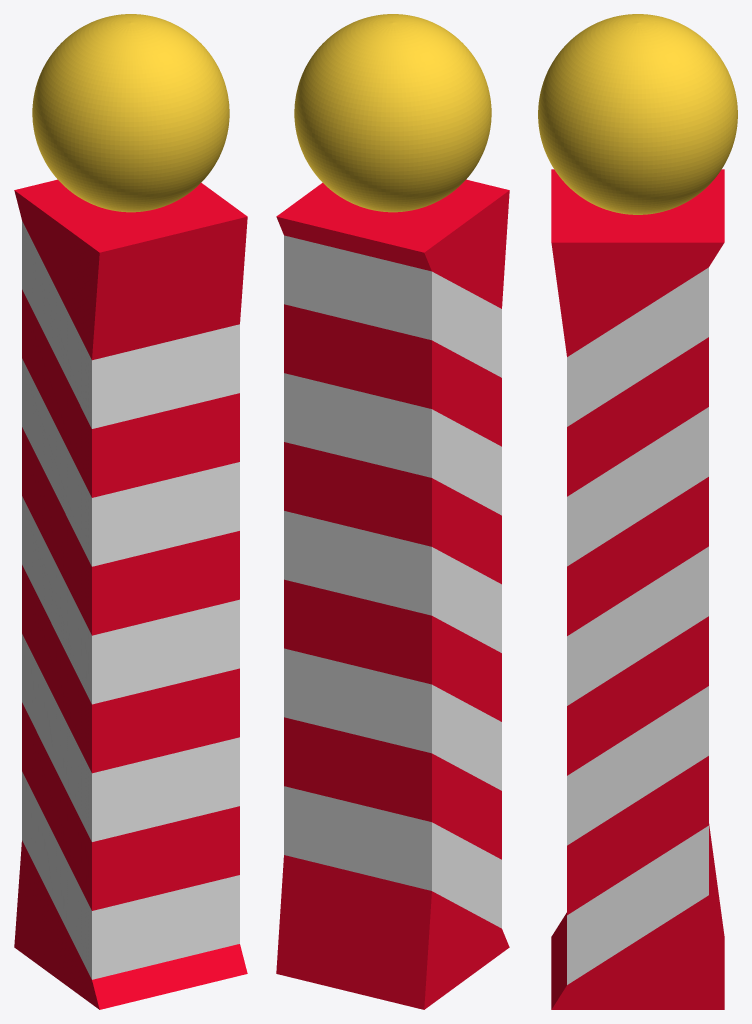
The model's file is bumper.fbx.
3 views of the same model, side by side, from view 1: azimuth 30°, elevation 25°; view 2: azimuth 150°, elevation 25°; view 3: azimuth 270°, elevation 25° (orthographic).
Parts seen in each view (by area): view 1: Cube, Sphere; view 2: Cube, Sphere; view 3: Cube, Sphere.
Part boxes in pixels (x1,y1,x2,y2): Cube: (14,179,247,1009); Sphere: (32,14,229,212); Cube: (276,179,509,1009); Sphere: (294,14,491,212); Cube: (551,169,724,1009); Sphere: (538,14,737,214).
Bounding box in the file's own units: 231 × 1211 × 231.
